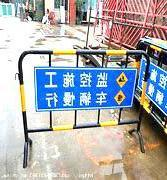sign: (34, 67, 136, 108)
